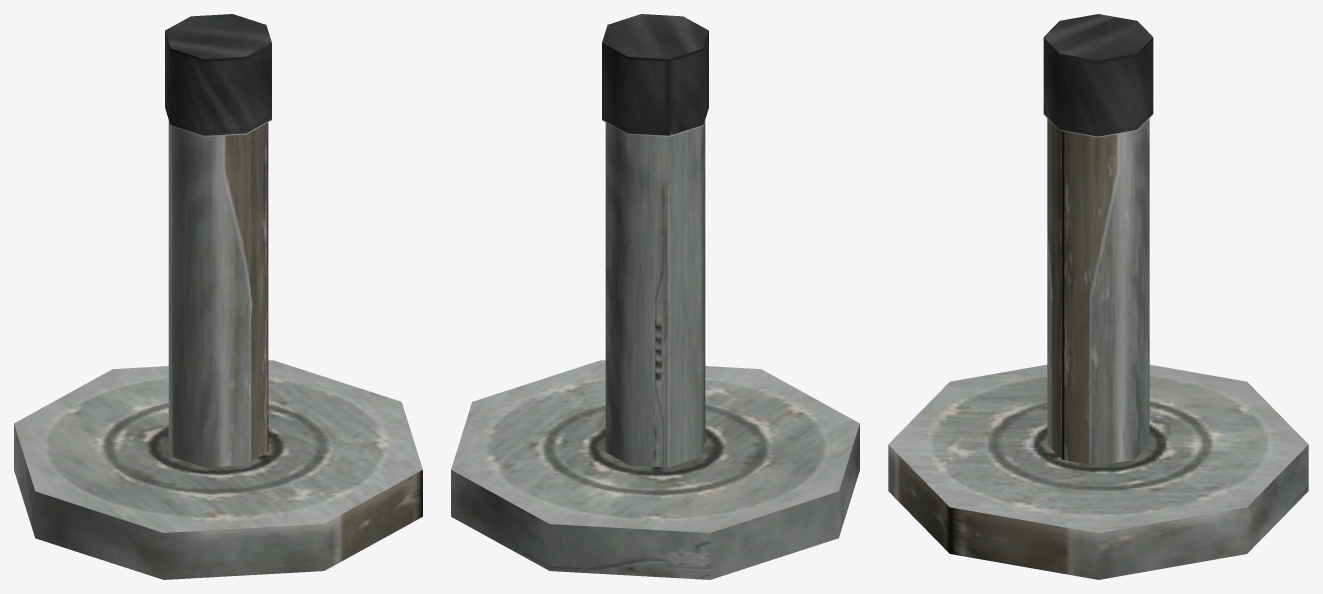
File: frn_all_glow_lamp_l0.fbx
3 views of the same model, side by side, from view 1: azimuth 30°, elevation 25°; view 2: azimuth 150°, elevation 25°; view 3: azimuth 270°, elevation 25° (orthographic).
Parts seen in each view (by area): view 1: mesh_node; view 2: mesh_node; view 3: mesh_node.
Part boxes in pixels (x1,y1,x2,y2): mesh_node: [14, 14, 422, 579]; mesh_node: [451, 14, 859, 579]; mesh_node: [888, 14, 1308, 579].
Size of the model in its own units: 0.108 by 0.1287 by 0.108.
